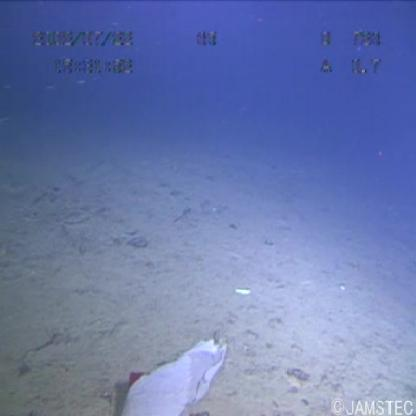Rác: (103, 321, 247, 416)
